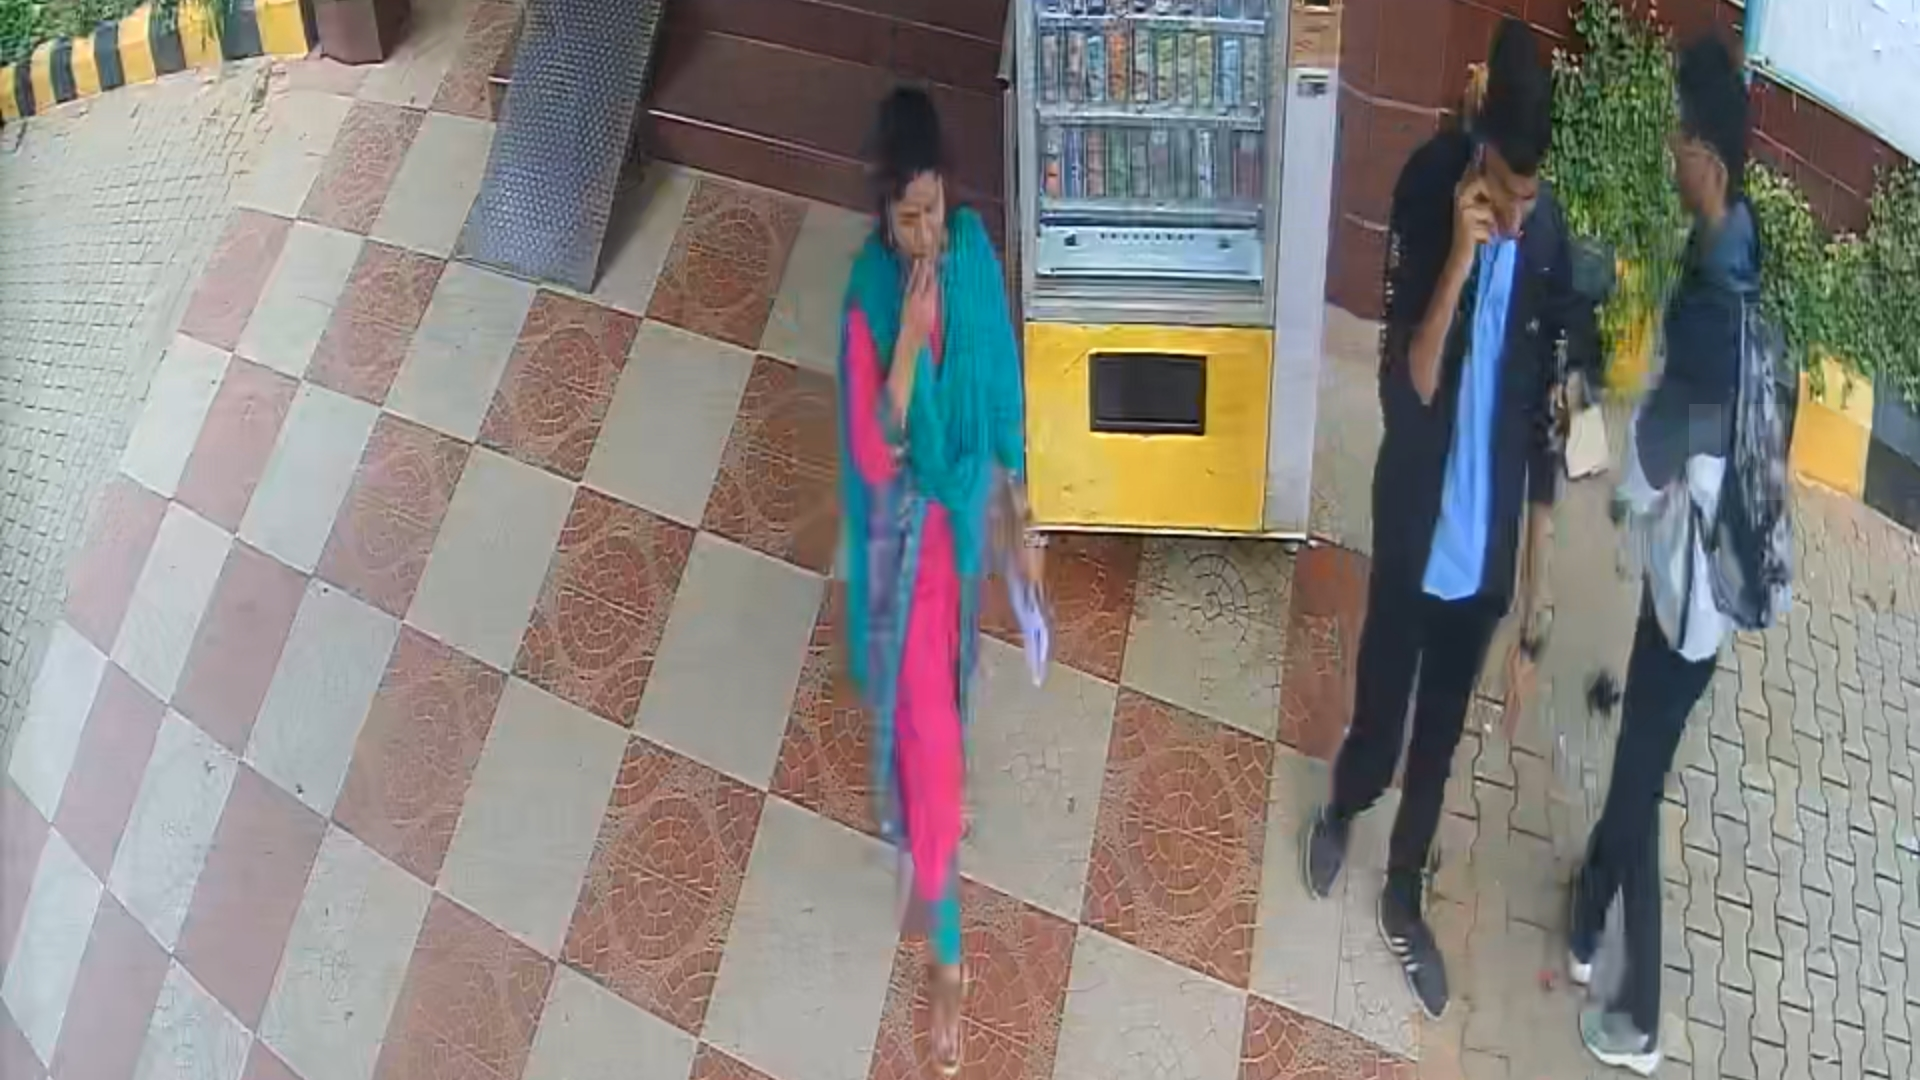intruder: (843, 57, 1040, 1080)
